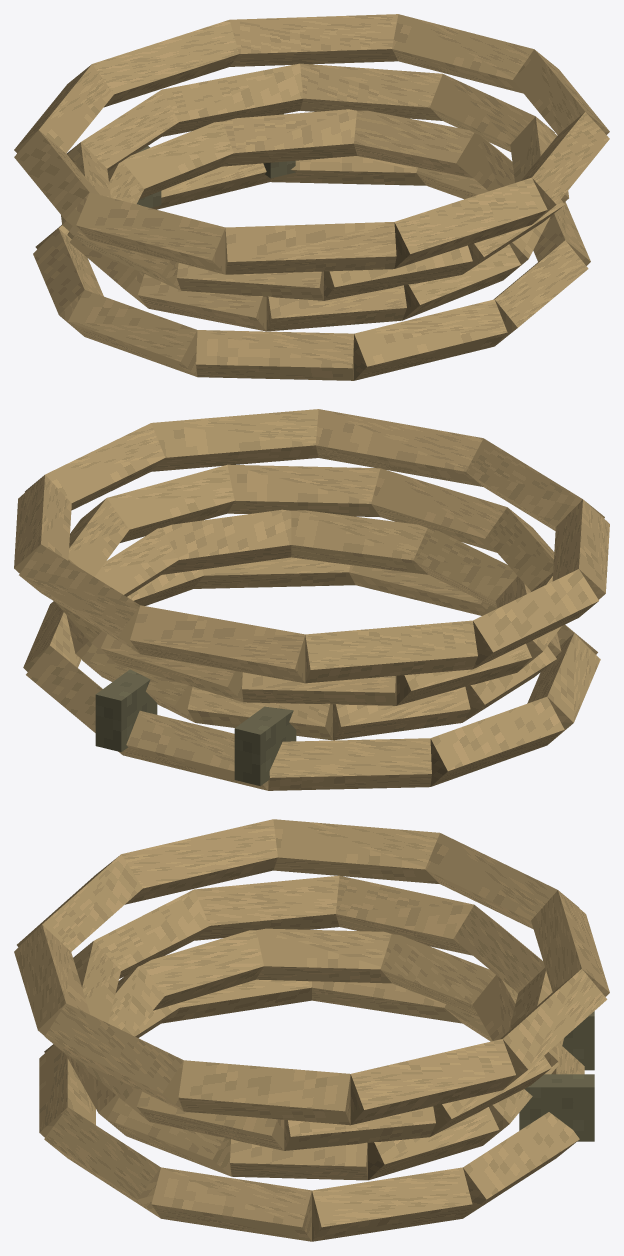
The model's file is rope_30.glb.
The picture shows the model from 3 angles, top to bottom: view 1: azimuth 30°, elevation 25°; view 2: azimuth 150°, elevation 25°; view 3: azimuth 270°, elevation 25°; orthographic projection. The views are drawn at different scales.
Parts seen in each view (by area): view 1: block_coiled length3-8, block_coiled length3-3, block_coiled length0-3, block_coiled length0-2, block_coiled length3-7, block_coiled length3-9, block_coiled length3-2, block_coiled length2-5, block_coiled length1-6, block_coiled length3-4, block_coiled length2-4, block_coiled length0-4 (+27 smaller); view 2: block_coiled length3-2, block_coiled length3-1, block_coiled length3-6, block_coiled length0-6, block_coiled length3-7, block_coiled length2-8, block_coiled rope tie (×2), block_coiled length1-0, block_coiled length0-5, block_coiled length1-9, block_coiled length2-9, block_coiled length3-0 (+27 smaller); view 3: block_coiled length3-5, block_coiled length3-4, block_coiled length3-0, block_coiled length0-0, block_coiled length0-9, block_coiled length3-9, block_coiled length2-1, block_coiled length1-3, block_coiled length3-6, block_coiled length2-2, block_coiled length3-1, block_coiled length1-2 (+28 smaller).
Boxes of the visible parts, x1=… form: block_coiled length3-8: x1=225, y1=222, x2=396, y2=274; block_coiled length3-3: x1=229, y1=14, x2=398, y2=66; block_coiled length0-3: x1=196, y1=330, x2=353, y2=380; block_coiled length0-2: x1=354, y1=299, x2=507, y2=380; block_coiled length3-7: x1=394, y1=177, x2=547, y2=268; block_coiled length3-9: x1=76, y1=192, x2=225, y2=274; block_coiled length3-2: x1=92, y1=20, x2=238, y2=107; block_coiled length2-5: x1=300, y1=63, x2=442, y2=120; block_coiled length1-6: x1=222, y1=109, x2=356, y2=166; block_coiled length3-4: x1=392, y1=14, x2=533, y2=93; block_coiled length2-4: x1=162, y1=63, x2=303, y2=136; block_coiled length0-4: x1=68, y1=290, x2=197, y2=376; block_coiled length3-2: x1=130, y1=605, x2=305, y2=683; block_coiled length3-1: x1=305, y1=620, x2=477, y2=683; block_coiled length3-6: x1=151, y1=409, x2=318, y2=471; block_coiled length0-6: x1=268, y1=738, x2=431, y2=790; block_coiled length3-7: x1=315, y1=409, x2=483, y2=486; block_coiled length2-8: x1=227, y1=464, x2=380, y2=517; block_coiled rope tie (×2): x1=95, y1=669, x2=296, y2=786; block_coiled length1-0: x1=291, y1=510, x2=428, y2=574; block_coiled length0-5: x1=430, y1=697, x2=564, y2=786; block_coiled length1-9: x1=162, y1=509, x2=291, y2=574; block_coiled length2-9: x1=371, y1=468, x2=507, y2=552; block_coiled length3-0: x1=473, y1=569, x2=598, y2=668; block_coiled length3-5: x1=178, y1=1060, x2=350, y2=1125; block_coiled length3-4: x1=350, y1=1039, x2=515, y2=1124; block_coiled length3-0: x1=273, y1=819, x2=439, y2=883; block_coiled length0-0: x1=151, y1=1167, x2=311, y2=1241; block_coiled length0-9: x1=312, y1=1167, x2=472, y2=1241; block_coiled length3-9: x1=121, y1=819, x2=277, y2=904; block_coiled length2-1: x1=194, y1=875, x2=339, y2=940; block_coiled length1-3: x1=256, y1=928, x2=391, y2=983; block_coiled length3-6: x1=44, y1=1003, x2=183, y2=1111; block_coiled length2-2: x1=336, y1=876, x2=473, y2=955; block_coiled length3-1: x1=425, y1=833, x2=578, y2=929; block_coiled length1-2: x1=142, y1=930, x2=263, y2=1010.
Size of the model in its own units: 0.4379 by 0.1282 by 0.3964.
1 material, 1 textured.
